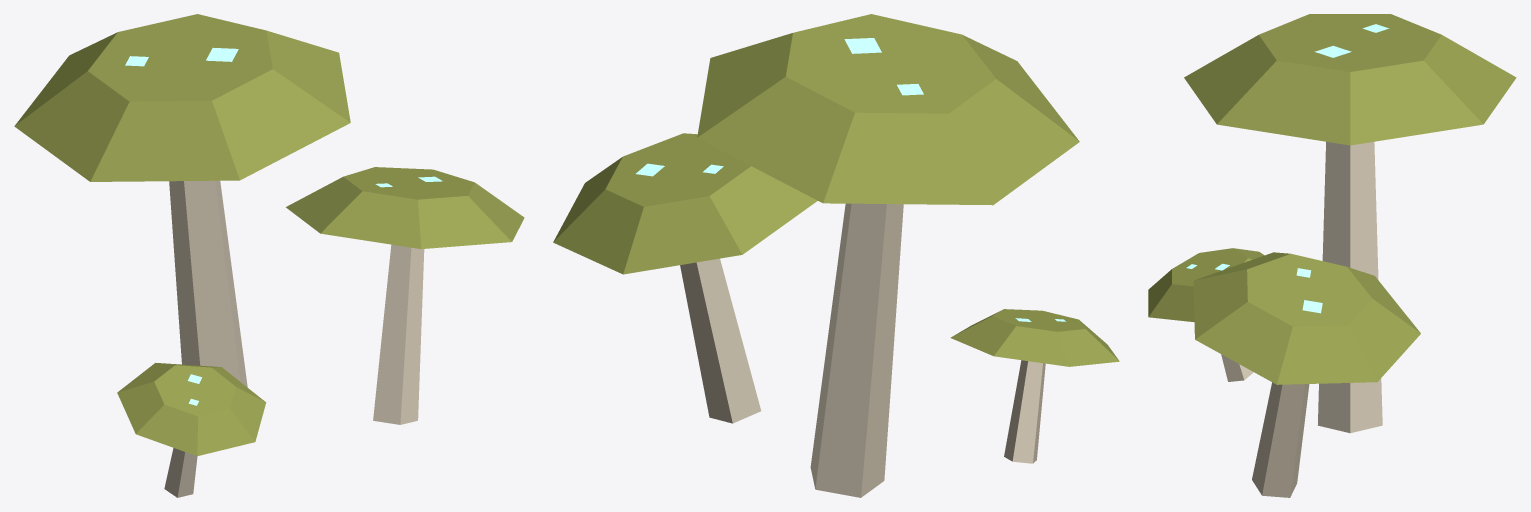
File: Veg_GlowCap_A.fbx
The picture shows the model from 3 angles, left to right: view 1: azimuth 30°, elevation 25°; view 2: azimuth 150°, elevation 25°; view 3: azimuth 270°, elevation 25°; orthographic projection. The views are drawn at different scales.
Parts seen in each view (by area): view 1: Veg_GlowCap_A; view 2: Veg_GlowCap_A; view 3: Veg_GlowCap_A.
Boxes of the visible parts, x1=… form: Veg_GlowCap_A: x1=14, y1=14, x2=524, y2=497; Veg_GlowCap_A: x1=553, y1=14, x2=1119, y2=497; Veg_GlowCap_A: x1=1148, y1=14, x2=1516, y2=497.
Size of the model in its own units: 0.9743 by 0.8271 by 0.7338.
